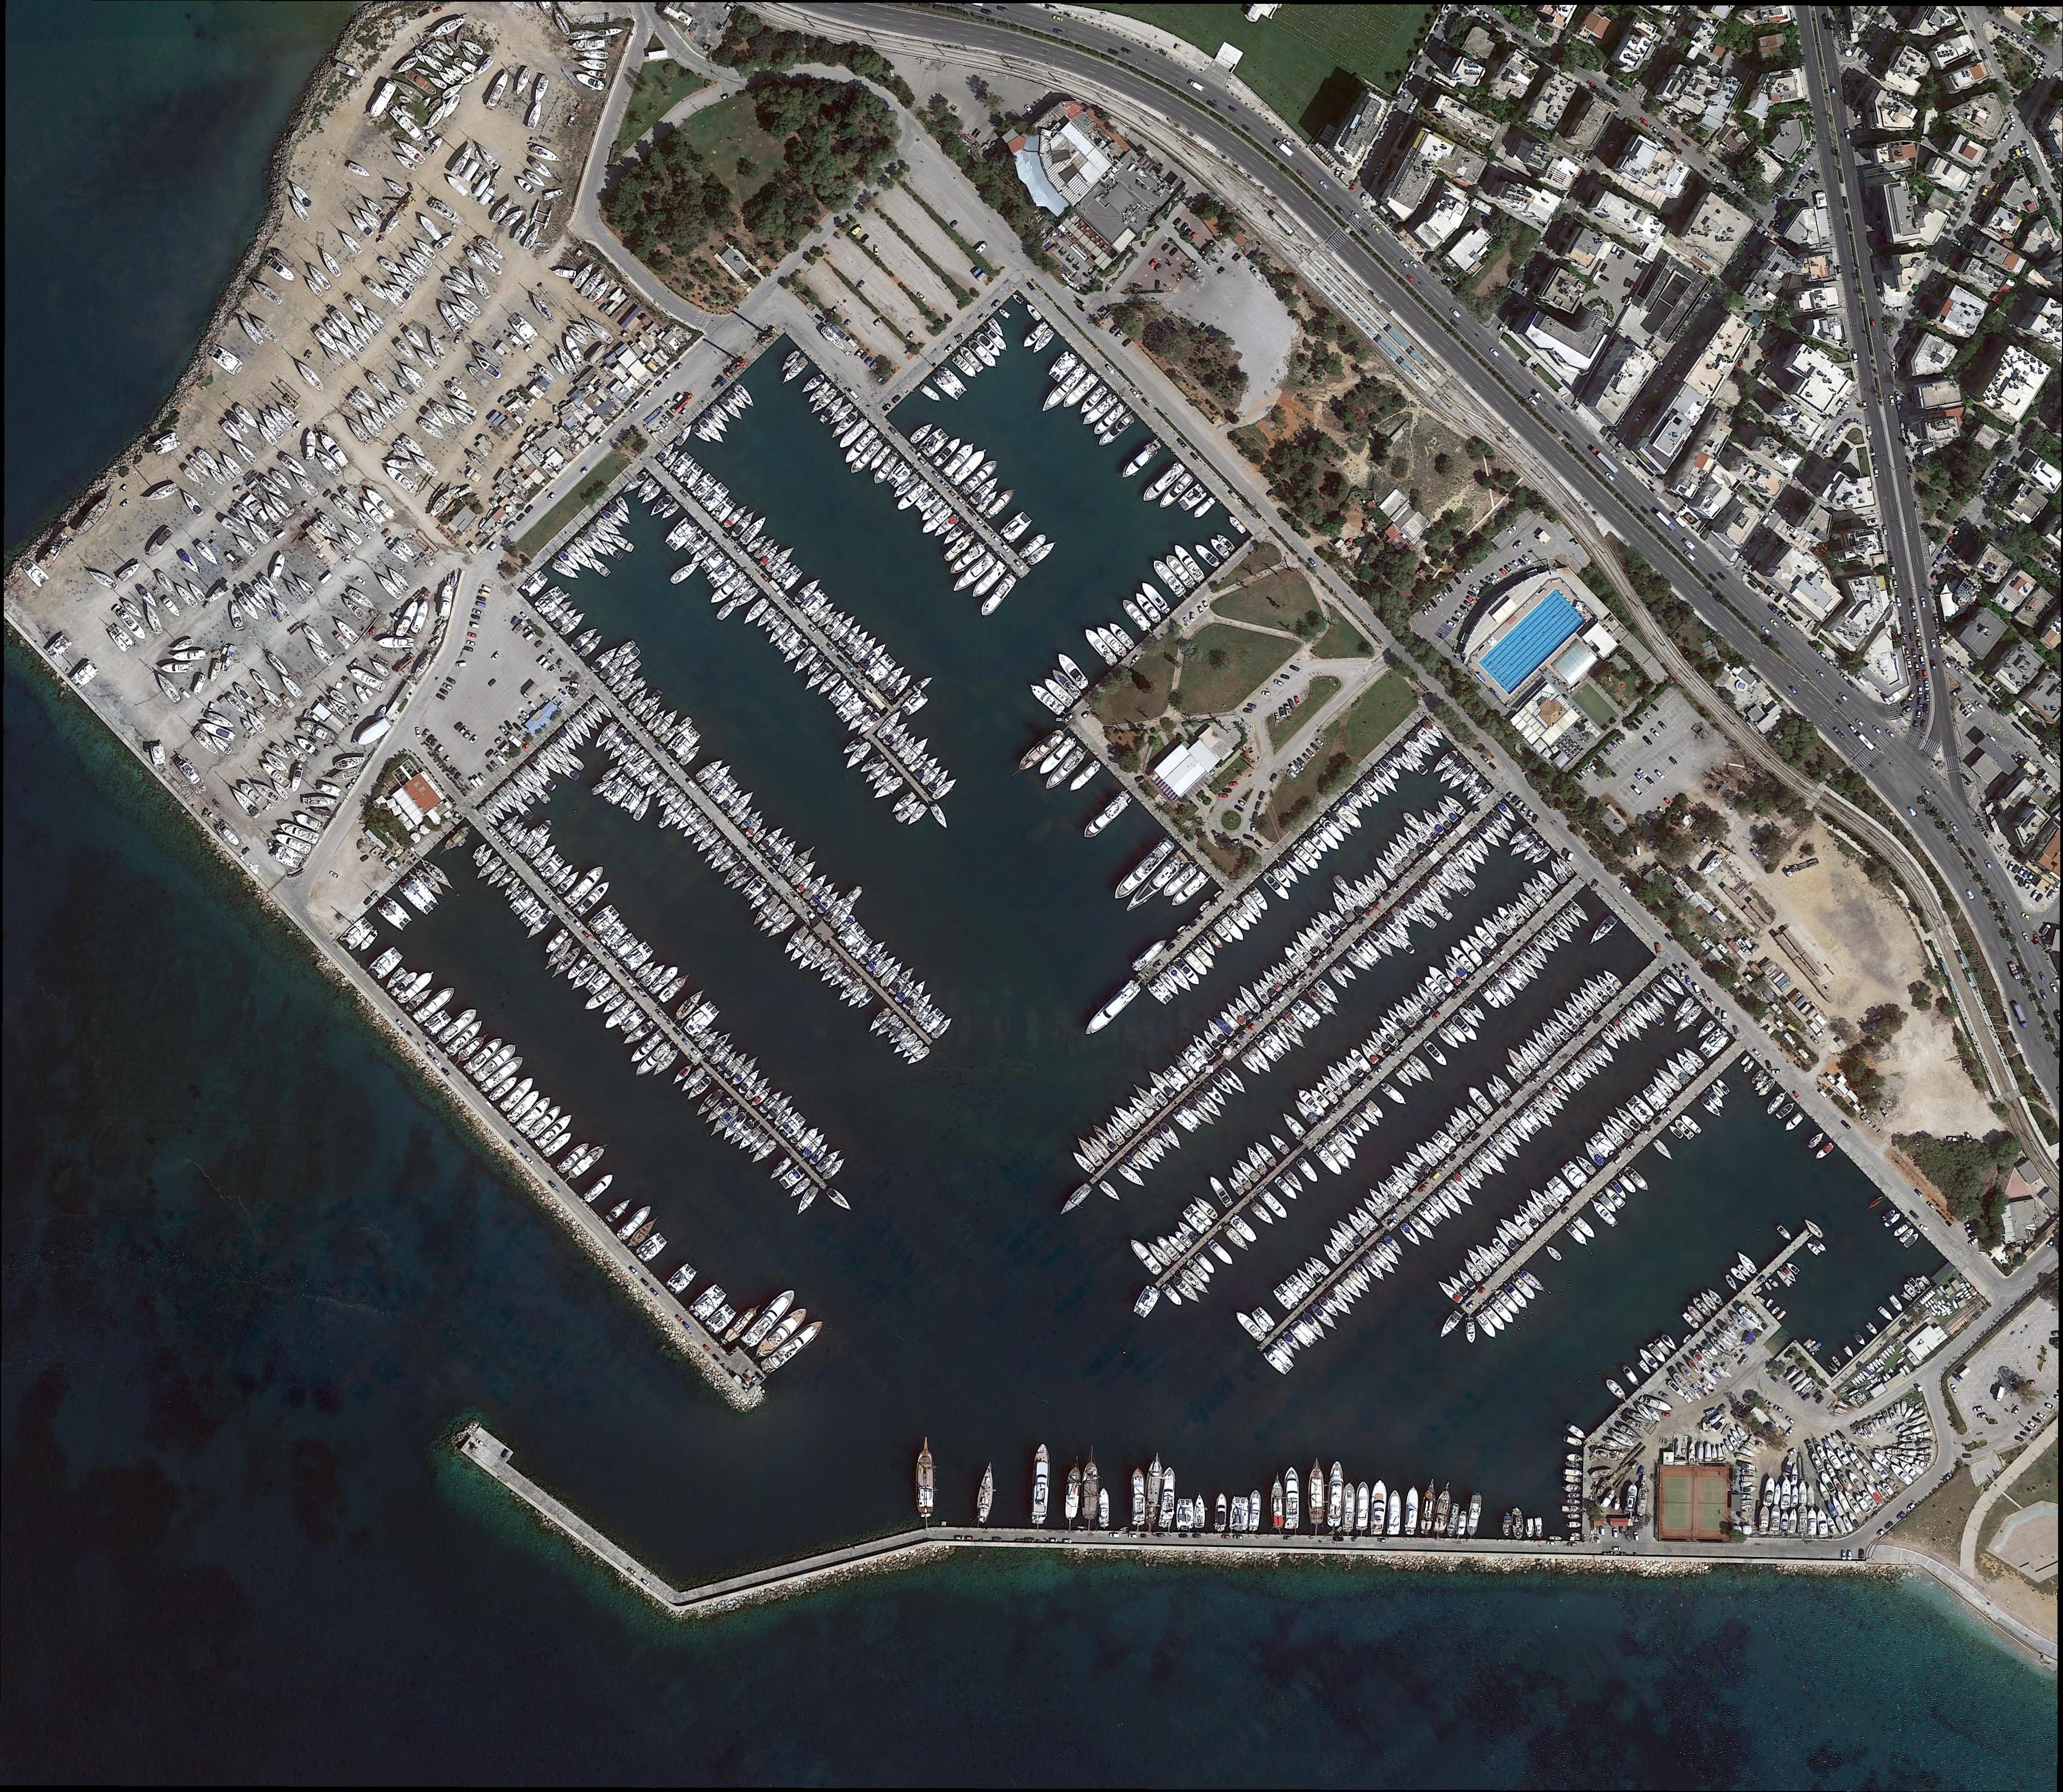harbor: (319, 934, 768, 1401), (1153, 872, 1588, 1292), (1253, 955, 1667, 1355), (1088, 790, 1503, 1188), (467, 809, 835, 1190), (596, 686, 940, 1050), (1460, 1037, 1749, 1318), (644, 458, 891, 713), (461, 1427, 689, 1608), (875, 418, 1033, 581), (930, 1525, 1586, 1557), (1137, 890, 1235, 988), (863, 728, 939, 807), (1745, 1229, 1816, 1294)
ship: (1117, 844, 1195, 921), (756, 1308, 835, 1378), (735, 1276, 805, 1355), (1107, 832, 1179, 906), (1077, 974, 1146, 1043), (751, 1299, 814, 1364), (1075, 786, 1139, 851), (1009, 723, 1070, 779), (1035, 360, 1091, 419), (716, 1292, 770, 1353), (558, 857, 612, 914), (1040, 742, 1093, 797), (430, 1000, 482, 1055), (405, 979, 461, 1030), (1114, 434, 1167, 486), (947, 548, 1002, 599), (72, 486, 123, 541), (1137, 456, 1188, 507), (395, 869, 444, 921), (470, 1037, 523, 1086), (361, 937, 410, 988), (440, 1013, 489, 1064), (386, 102, 435, 153), (684, 1276, 733, 1325), (567, 1134, 616, 1183), (391, 964, 440, 1013), (568, 874, 616, 925), (1028, 1439, 1054, 1529), (628, 1037, 677, 1085), (521, 1099, 568, 1148), (479, 1050, 530, 1095), (461, 1030, 507, 1081), (977, 569, 1021, 621), (970, 1453, 1000, 1529), (1123, 1230, 1168, 1279), (1093, 409, 1140, 455), (612, 1199, 658, 1244), (1158, 858, 1203, 904), (958, 455, 1003, 500), (1033, 735, 1079, 781), (1054, 1176, 1100, 1222), (949, 442, 993, 490), (700, 1295, 744, 1343), (575, 1165, 619, 1213), (967, 558, 1010, 606), (916, 1427, 937, 1523), (498, 1069, 542, 1115), (681, 995, 725, 1041), (1081, 1443, 1103, 1530), (363, 74, 403, 123), (37, 521, 75, 572), (535, 1109, 579, 1153), (1168, 869, 1212, 913), (1060, 370, 1102, 416), (1147, 555, 1189, 600), (660, 1257, 702, 1302), (372, 892, 418, 934), (170, 751, 212, 797), (1731, 1297, 1777, 1339), (416, 853, 460, 895), (930, 362, 972, 405), (553, 1136, 596, 1178), (1251, 1183, 1295, 1225), (335, 911, 377, 955), (705, 569, 749, 611), (946, 537, 989, 579), (1081, 625, 1121, 670), (840, 423, 881, 469), (293, 714, 342, 751), (623, 1209, 665, 1251), (625, 1027, 667, 1069), (1079, 390, 1121, 432), (939, 437, 979, 481), (1156, 470, 1196, 514), (360, 483, 400, 527), (535, 1125, 579, 1165), (289, 355, 330, 398), (1482, 967, 1523, 1011), (661, 513, 702, 556), (1054, 648, 1093, 693), (1170, 541, 1209, 586), (1061, 1453, 1084, 1529), (1128, 934, 1170, 974), (232, 309, 272, 351), (596, 1190, 639, 1230), (451, 1029, 491, 1071), (1316, 1130, 1356, 1172), (226, 783, 265, 827), (396, 981, 440, 1020), (849, 434, 888, 477), (1128, 1279, 1165, 1325), (410, 864, 451, 904), (516, 1092, 556, 1132), (1026, 677, 1067, 718), (1089, 400, 1130, 441), (579, 311, 619, 351), (207, 340, 247, 381), (939, 527, 979, 567), (540, 932, 579, 974), (549, 941, 588, 983), (981, 481, 1019, 523), (1065, 756, 1103, 799), (1307, 1137, 1346, 1179), (1584, 907, 1623, 950), (425, 481, 463, 523), (581, 981, 625, 1018), (353, 714, 396, 751), (433, 297, 470, 340), (316, 428, 353, 472), (426, 195, 470, 232), (346, 662, 391, 697), (437, 820, 477, 858), (670, 985, 709, 1025), (100, 618, 139, 658), (468, 335, 509, 374), (1216, 1218, 1256, 1257), (1175, 1262, 1216, 1301), (1167, 1269, 1207, 1308), (1496, 957, 1537, 995), (209, 814, 247, 855), (1161, 549, 1198, 591), (1137, 576, 1174, 618), (247, 276, 289, 312), (382, 463, 425, 500), (505, 307, 542, 349), (1324, 1455, 1346, 1529), (1146, 1450, 1165, 1529), (521, 907, 560, 946), (963, 335, 1002, 374), (633, 1227, 672, 1265), (1275, 1106, 1314, 1144), (112, 604, 151, 642), (237, 778, 275, 816), (507, 1085, 544, 1125), (142, 520, 179, 560), (1326, 1125, 1363, 1165), (900, 728, 937, 769), (835, 414, 872, 455), (151, 667, 186, 709), (265, 839, 309, 872), (621, 937, 658, 976), (1046, 348, 1082, 386), (1093, 621, 1130, 660), (1363, 927, 1400, 965), (342, 412, 379, 451), (1454, 932, 1491, 971), (800, 660, 837, 699), (532, 581, 570, 618), (600, 771, 637, 809), (895, 477, 933, 514), (1398, 990, 1433, 1030), (784, 839, 819, 879), (1461, 1078, 1496, 1118), (1417, 1474, 1440, 1536), (1307, 1455, 1326, 1527), (567, 960, 603, 997), (602, 999, 639, 1036), (754, 900, 791, 937), (646, 960, 682, 997), (654, 971, 691, 1007), (1039, 672, 1075, 709), (67, 655, 104, 692), (928, 432, 965, 469), (384, 965, 421, 1002), (1246, 1195, 1282, 1232), (875, 656, 912, 693), (665, 725, 702, 762), (828, 405, 865, 442), (919, 502, 956, 539), (1647, 976, 1684, 1013), (617, 1016, 656, 1051), (1181, 1095, 1219, 1130), (1189, 1088, 1228, 1123), (1119, 595, 1154, 634), (1075, 379, 1110, 418), (1130, 588, 1165, 627), (305, 635, 340, 674), (258, 758, 296, 793), (39, 627, 77, 662), (703, 556, 742, 591), (858, 635, 893, 674), (1231, 1306, 1267, 1344), (732, 1048, 765, 1088), (902, 972, 935, 1013), (1205, 1172, 1239, 1213), (870, 448, 903, 488), (272, 828, 316, 858), (916, 425, 953, 460), (968, 472, 1003, 509), (1014, 527, 1051, 562), (779, 921, 814, 958), (1303, 985, 1340, 1020), (1049, 665, 1084, 702), (302, 260, 337, 297), (19, 555, 54, 591), (1112, 1158, 1149, 1193), (414, 209, 449, 246), (396, 360, 433, 395), (586, 902, 623, 937), (1226, 1211, 1263, 1246), (1203, 1234, 1239, 1271), (1295, 1083, 1330, 1120), (833, 692, 870, 727), (737, 593, 774, 628), (1621, 1092, 1658, 1127), (393, 135, 432, 168), (1249, 1134, 1282, 1172), (1447, 941, 1481, 979), (737, 511, 770, 549), (389, 74, 428, 107), (402, 67, 440, 100), (474, 233, 512, 267), (1375, 1078, 1414, 1111), (867, 774, 907, 806), (1284, 1459, 1302, 1530), (81, 563, 123, 593), (1161, 1464, 1181, 1529), (649, 1046, 684, 1081), (700, 1095, 735, 1130), (707, 1104, 742, 1139), (765, 1088, 800, 1123), (747, 895, 782, 930), (1175, 481, 1210, 516), (1144, 1065, 1179, 1100), (428, 12, 472, 40), (140, 479, 184, 507), (1542, 913, 1577, 948), (726, 505, 761, 541), (777, 353, 812, 388), (1696, 1025, 1731, 1060), (1405, 1211, 1440, 1246), (393, 597, 421, 641), (977, 321, 1014, 355), (1017, 318, 1051, 355), (1274, 1018, 1310, 1051), (1181, 1201, 1214, 1237), (1088, 1118, 1121, 1155), (1330, 800, 1367, 834), (177, 486, 211, 523), (472, 137, 505, 174), (709, 771, 742, 807), (700, 758, 737, 792), (1502, 1041, 1535, 1078), (765, 539, 798, 576), (328, 305, 361, 342), (474, 244, 507, 281), (311, 448, 347, 481), (1023, 537, 1061, 569), (617, 781, 649, 820), (277, 820, 323, 846), (793, 1181, 821, 1223), (484, 70, 512, 112), (1402, 1480, 1423, 1536), (539, 923, 572, 958), (563, 950, 596, 985), (970, 328, 1005, 362), (947, 349, 981, 384), (691, 1086, 726, 1120), (579, 528, 614, 562), (563, 541, 598, 574), (598, 916, 632, 951), (703, 1025, 737, 1060), (535, 746, 568, 781), (1189, 1190, 1223, 1225), (1239, 1143, 1272, 1178), (1351, 934, 1384, 969), (1379, 911, 1414, 944), (1458, 835, 1491, 871), (1231, 897, 1265, 932), (1233, 981, 1267, 1016), (1279, 848, 1314, 881), (1130, 1078, 1163, 1113), (1179, 1043, 1214, 1076), (1072, 1134, 1105, 1169), (265, 402, 298, 437), (374, 570, 407, 606), (332, 614, 365, 649), (1217, 1064, 1251, 1099), (528, 291, 561, 326), (1293, 1153, 1326, 1188), (377, 964, 412, 997), (1493, 902, 1526, 937), (1405, 1050, 1438, 1085), (788, 644, 821, 679), (840, 739, 874, 774), (518, 567, 553, 600), (642, 490, 677, 523), (1309, 1302, 1344, 1336), (695, 412, 728, 448), (698, 479, 732, 514), (777, 637, 812, 670), (328, 493, 363, 527), (816, 391, 849, 426), (463, 363, 498, 397), (1419, 1036, 1453, 1071), (1442, 1178, 1477, 1211), (1477, 1146, 1512, 1179), (249, 312, 282, 348), (318, 340, 351, 376), (488, 1072, 525, 1104), (761, 911, 798, 943), (795, 939, 826, 976), (1328, 888, 1360, 925), (1479, 814, 1516, 846), (1188, 1027, 1219, 1064), (149, 428, 186, 460), (1424, 958, 1456, 995), (1589, 1195, 1621, 1232), (865, 439, 896, 476), (263, 254, 300, 286), (553, 342, 582, 381), (1370, 1476, 1389, 1536), (468, 265, 496, 305), (616, 1006, 649, 1039), (814, 1143, 847, 1176), (719, 857, 753, 890), (1372, 920, 1405, 953), (1105, 618, 1139, 651), (1260, 871, 1293, 904), (1167, 1048, 1200, 1081), (1461, 1244, 1495, 1278), (1253, 1030, 1286, 1064), (1000, 509, 1033, 542), (772, 623, 805, 656), (842, 704, 875, 737), (1423, 871, 1456, 904), (858, 934, 891, 967), (589, 642, 623, 676), (791, 572, 824, 606), (891, 469, 924, 502), (1449, 1013, 1482, 1046), (1524, 1099, 1558, 1132), (421, 1006, 456, 1037), (1144, 1236, 1175, 1271), (1405, 728, 1440, 760), (289, 567, 321, 602), (1323, 1060, 1354, 1095), (1519, 876, 1551, 911), (1340, 1051, 1372, 1086), (1516, 943, 1551, 974), (1358, 1092, 1393, 1123), (1526, 1023, 1558, 1058), (1286, 1316, 1317, 1351), (700, 407, 735, 439), (884, 456, 916, 491), (472, 353, 507, 384), (1674, 1002, 1705, 1037), (1128, 1464, 1146, 1527), (1467, 918, 1502, 950), (446, 391, 482, 421), (888, 960, 917, 997), (668, 558, 705, 588), (577, 265, 607, 302), (1300, 1308, 1330, 1344), (249, 778, 286, 807), (1433, 1480, 1453, 1536), (516, 899, 549, 930), (667, 1058, 700, 1090), (472, 853, 505, 885), (956, 342, 988, 376), (707, 842, 739, 876), (788, 932, 819, 965), (863, 1004, 895, 1037), (1428, 748, 1461, 779), (1303, 913, 1337, 944), (1407, 885, 1440, 916), (1416, 878, 1449, 909), (1507, 830, 1540, 862), (1172, 955, 1203, 988), (1181, 948, 1212, 981), (1217, 913, 1249, 946), (1324, 809, 1358, 841), (265, 490, 296, 523), (335, 226, 367, 260), (347, 209, 379, 242), (1244, 1044, 1275, 1078), (823, 1183, 856, 1215), (1265, 1127, 1296, 1160), (1279, 1164, 1310, 1197), (761, 616, 793, 649), (824, 677, 858, 709), (809, 876, 840, 909), (837, 918, 868, 951), (693, 753, 726, 785), (617, 670, 649, 704), (651, 706, 682, 739), (898, 688, 932, 720), (884, 670, 917, 702), (1435, 1185, 1467, 1218), (849, 632, 881, 665), (721, 498, 753, 532), (809, 384, 840, 418), (939, 518, 970, 551), (409, 449, 442, 481), (289, 470, 323, 502), (426, 397, 460, 428), (1558, 1157, 1589, 1190), (1603, 1109, 1637, 1141), (1612, 1100, 1644, 1134), (1270, 1279, 1302, 1313), (1549, 1002, 1582, 1034), (1638, 986, 1670, 1020), (1658, 969, 1691, 1000), (1514, 1106, 1545, 1139), (1493, 1130, 1524, 1164), (384, 563, 416, 597), (1267, 1021, 1296, 1057), (930, 772, 965, 802), (728, 785, 758, 820), (1249, 1302, 1279, 1337), (344, 583, 379, 613), (277, 451, 312, 481), (1400, 1146, 1435, 1176), (1396, 1218, 1426, 1253), (258, 407, 288, 442), (447, 144, 477, 179), (291, 809, 330, 835), (1247, 1481, 1267, 1534), (777, 1109, 809, 1141), (817, 957, 849, 988), (700, 835, 732, 867), (610, 930, 642, 962), (1435, 756, 1467, 788), (1312, 906, 1344, 937), (1312, 978, 1344, 1009), (1233, 1155, 1265, 1186), (1146, 978, 1177, 1009), (1289, 841, 1321, 872), (1310, 821, 1342, 853), (1317, 814, 1349, 846), (1372, 765, 1403, 797), (440, 170, 472, 202), (1486, 1295, 1517, 1327), (1200, 1079, 1231, 1111), (1191, 1248, 1223, 1279), (1182, 1255, 1214, 1287), (1353, 1099, 1384, 1130), (619, 467, 651, 498), (1579, 971, 1610, 1002), (1263, 1344, 1295, 1376), (1360, 1255, 1391, 1287), (716, 393, 747, 425), (605, 732, 637, 763), (1409, 976, 1440, 1007), (191, 728, 223, 760), (930, 511, 961, 542), (453, 290, 484, 321), (193, 446, 225, 477), (311, 325, 342, 356), (1661, 1053, 1693, 1085), (1270, 1467, 1286, 1530), (1388, 1160, 1419, 1192), (1542, 1011, 1574, 1043), (1438, 948, 1470, 979), (1567, 986, 1598, 1018), (1558, 1062, 1589, 1093), (1505, 1116, 1537, 1148), (1368, 1248, 1400, 1279), (1414, 1199, 1446, 1230), (223, 409, 254, 441), (682, 1076, 716, 1106), (726, 1118, 756, 1151), (758, 1085, 788, 1118), (514, 823, 544, 857), (1374, 1011, 1407, 1041), (1239, 890, 1268, 923), (1105, 1107, 1135, 1141), (1067, 1148, 1100, 1178), (286, 195, 316, 228), (1435, 1308, 1465, 1341), (1158, 1279, 1188, 1313), (1398, 1053, 1428, 1086), (696, 548, 730, 577), (1324, 1222, 1358, 1251), (844, 625, 874, 658), (875, 707, 905, 741), (354, 409, 384, 442), (416, 414, 449, 444), (396, 432, 430, 462), (1535, 1016, 1565, 1050), (1510, 953, 1544, 983), (1617, 1011, 1647, 1044), (1426, 1192, 1456, 1225), (326, 695, 360, 725), (447, 263, 481, 293), (468, 170, 498, 204), (409, 597, 433, 637), (288, 177, 316, 212), (318, 247, 346, 283), (1288, 1000, 1323, 1029), (1528, 1183, 1556, 1218), (1386, 1485, 1405, 1536), (425, 326, 451, 363), (200, 720, 239, 744), (526, 142, 565, 167), (600, 992, 632, 1021), (507, 888, 539, 918), (481, 862, 512, 892), (905, 418, 937, 448), (747, 1137, 779, 1167), (777, 1164, 809, 1193), (693, 828, 725, 858), (739, 872, 768, 904), (744, 886, 775, 916), (605, 498, 637, 528), (591, 720, 621, 751), (640, 771, 670, 802), (744, 1071, 774, 1102), (542, 741, 572, 772), (509, 767, 539, 799), (1417, 804, 1447, 835), (1444, 763, 1474, 795), (1398, 823, 1428, 855), (1281, 941, 1310, 972), (1291, 925, 1321, 957), (1370, 851, 1400, 883), (1384, 837, 1414, 869), (1153, 1232, 1182, 1264), (1451, 846, 1481, 878), (1165, 964, 1195, 995), (1188, 941, 1217, 972), (1191, 541, 1223, 570), (1112, 1100, 1142, 1132), (1389, 744, 1419, 776), (1414, 723, 1446, 753), (584, 967, 614, 999), (1161, 1064, 1193, 1093), (1170, 1104, 1202, 1134), (521, 830, 553, 860), (546, 858, 575, 890), (1314, 1078, 1344, 1109), (1533, 864, 1563, 895), (1389, 1062, 1419, 1093), (1561, 895, 1593, 925), (681, 527, 710, 558), (688, 539, 719, 569), (758, 821, 788, 853), (802, 871, 832, 902), (558, 609, 588, 641), (568, 623, 600, 653), (575, 630, 607, 660), (596, 653, 628, 683), (1447, 1100, 1477, 1132), (789, 857, 819, 888), (1365, 1183, 1395, 1215), (1342, 1208, 1372, 1239), (1324, 1288, 1356, 1318), (1374, 1239, 1405, 1269), (621, 749, 653, 779), (830, 611, 860, 642), (598, 725, 628, 756), (688, 469, 717, 500), (800, 588, 830, 620), (867, 653, 896, 685), (914, 751, 944, 783), (339, 593, 370, 623), (360, 497, 389, 528), (242, 583, 272, 614), (277, 672, 307, 704), (1563, 1218, 1593, 1250), (803, 377, 835, 407), (714, 593, 744, 625), (910, 486, 942, 516), (382, 535, 412, 567), (365, 369, 395, 400), (1696, 1092, 1726, 1123), (1498, 1213, 1528, 1244), (1544, 1172, 1574, 1204), (1589, 1129, 1619, 1160), (1640, 1083, 1672, 1113), (1654, 1062, 1684, 1093), (332, 335, 361, 367), (1521, 1032, 1551, 1064), (1433, 1025, 1465, 1055), (1537, 1085, 1568, 1115), (1623, 1004, 1654, 1034), (795, 1122, 823, 1155), (767, 1151, 795, 1185), (723, 1048, 751, 1081), (1203, 1013, 1231, 1046), (1358, 1037, 1386, 1071), (544, 597, 577, 625), (1372, 1174, 1400, 1208), (879, 957, 907, 990), (261, 749, 295, 778), (332, 56, 365, 84), (489, 193, 518, 226), (1474, 1311, 1502, 1344), (1670, 992, 1698, 1025), (1353, 1201, 1381, 1234), (235, 591, 263, 625), (510, 61, 535, 98), (572, 70, 609, 95), (530, 70, 554, 107), (677, 1067, 707, 1097), (716, 849, 746, 879), (835, 976, 865, 1006), (688, 820, 717, 849), (928, 1013, 958, 1043), (572, 534, 602, 563), (1331, 957, 1361, 986), (1291, 1097, 1321, 1127), (1395, 897, 1424, 927), (1430, 865, 1460, 895), (1467, 828, 1496, 858), (1224, 904, 1254, 934), (1189, 493, 1219, 523), (1267, 864, 1296, 893), (1274, 857, 1303, 886), (1126, 1090, 1156, 1120), (1402, 749, 1431, 779), (1479, 1302, 1509, 1332), (530, 841, 560, 871), (1556, 902, 1586, 932), (814, 670, 844, 700), (765, 830, 795, 860), (1575, 981, 1605, 1011), (653, 785, 682, 814), (710, 495, 740, 525), (775, 563, 805, 593), (835, 621, 865, 651), (205, 577, 235, 607), (826, 398, 856, 428), (379, 283, 409, 312), (393, 372, 423, 402), (414, 346, 444, 376), (193, 539, 223, 569), (1570, 1213, 1600, 1243), (1623, 1164, 1653, 1193), (1596, 1118, 1626, 1148), (1600, 1373, 1630, 1402), (1472, 1239, 1502, 1269), (1333, 1216, 1363, 1246), (1410, 1139, 1440, 1169), (1479, 913, 1509, 943), (1456, 1004, 1486, 1034), (1531, 1092, 1561, 1122), (1330, 1279, 1360, 1309), (498, 204, 528, 233), (361, 195, 391, 225), (802, 1130, 830, 1162), (354, 925, 382, 957), (1030, 326, 1058, 358), (719, 1113, 747, 1144), (554, 548, 586, 576), (874, 1011, 902, 1043), (518, 762, 546, 793), (1158, 1120, 1186, 1151), (1279, 1009, 1310, 1037), (1391, 828, 1419, 860), (1488, 807, 1519, 835), (1230, 992, 1258, 1023), (1474, 823, 1505, 851), (860, 760, 891, 788), (886, 790, 917, 818), (893, 799, 924, 827), (882, 718, 910, 749), (830, 899, 858, 930), (772, 835, 800, 867), (796, 369, 828, 397), (447, 300, 479, 328), (568, 260, 596, 291), (586, 276, 614, 307), (256, 474, 288, 502), (1495, 1287, 1523, 1318), (1493, 1222, 1521, 1253), (1358, 1192, 1386, 1223), (1486, 1067, 1514, 1099), (1514, 1039, 1542, 1071), (246, 516, 274, 548), (282, 577, 311, 609), (526, 154, 558, 183), (584, 521, 617, 548), (549, 558, 582, 584), (895, 728, 921, 762), (218, 514, 251, 541), (381, 176, 414, 202), (1467, 1490, 1484, 1539), (1212, 1490, 1231, 1534), (267, 551, 289, 588), (142, 600, 165, 637), (744, 1129, 774, 1157), (824, 964, 854, 992), (844, 983, 872, 1013), (633, 762, 663, 790), (661, 792, 689, 821), (668, 799, 696, 828), (737, 1065, 765, 1095), (889, 1032, 919, 1060), (502, 776, 530, 806), (1324, 964, 1353, 993), (1286, 935, 1316, 964), (1344, 881, 1372, 911), (1377, 844, 1405, 874), (1344, 948, 1374, 976), (1363, 771, 1391, 800), (1096, 1178, 1126, 1206), (639, 960, 668, 988), (407, 244, 437, 272), (1230, 1164, 1258, 1193), (847, 932, 875, 962), (625, 683, 653, 713), (1456, 1164, 1484, 1193), (688, 419, 716, 449), (730, 379, 758, 409), (300, 621, 328, 651), (917, 497, 947, 525), (133, 581, 161, 611), (421, 102, 449, 132), (389, 270, 419, 298), (400, 251, 430, 279), (232, 402, 261, 430), (218, 419, 247, 448), (361, 276, 391, 304), (346, 293, 374, 323), (819, 325, 849, 353), (349, 321, 377, 351), (342, 328, 370, 358), (1519, 1267, 1549, 1295), (1509, 1208, 1537, 1237), (1514, 1199, 1542, 1229), (1274, 1176, 1302, 1206), (1560, 997, 1589, 1025), (1544, 1078, 1574, 1106), (1589, 1036, 1617, 1065), (172, 581, 200, 611), (258, 498, 286, 528), (593, 514, 625, 541), (563, 720, 589, 751), (909, 988, 935, 1020), (556, 865, 582, 897), (1545, 857, 1572, 888), (823, 606, 849, 637), (153, 567, 179, 599), (446, 404, 477, 430), (510, 214, 537, 246), (1765, 1086, 1791, 1118), (391, 149, 423, 176), (928, 800, 953, 834), (440, 274, 474, 298), (551, 5, 575, 39), (439, 581, 458, 623), (225, 599, 247, 634), (1640, 1394, 1675, 1416), (821, 1155, 849, 1183), (682, 813, 710, 841), (675, 806, 703, 834), (528, 753, 556, 781), (1433, 795, 1461, 823), (1440, 790, 1468, 818), (1302, 923, 1330, 951), (1351, 876, 1379, 904), (1519, 837, 1547, 865), (514, 174, 542, 202), (753, 604, 781, 632), (854, 711, 882, 739), (553, 604, 581, 632), (1346, 1267, 1374, 1295), (919, 1006, 947, 1034), (723, 386, 751, 414), (667, 451, 695, 479), (777, 346, 805, 374), (395, 260, 423, 288), (1510, 1274, 1538, 1302), (1672, 1048, 1700, 1076), (1572, 1151, 1600, 1179), (1419, 1134, 1447, 1162), (1463, 997, 1491, 1025), (1346, 1107, 1374, 1136), (1335, 1122, 1363, 1150), (1591, 971, 1619, 999), (1630, 997, 1658, 1025), (1316, 1294, 1344, 1322), (1381, 1232, 1409, 1260), (1484, 1137, 1512, 1165), (265, 651, 293, 679), (116, 558, 144, 586), (232, 439, 260, 467), (356, 205, 384, 233), (1726, 1308, 1754, 1336), (807, 946, 833, 976), (588, 693, 614, 723), (577, 706, 603, 735), (570, 713, 596, 742), (488, 792, 518, 818), (1346, 1043, 1372, 1072), (1391, 999, 1417, 1029), (1400, 892, 1430, 918), (1505, 823, 1535, 849), (1247, 883, 1274, 913), (1419, 716, 1449, 742), (1398, 735, 1428, 762), (1530, 930, 1560, 957), (868, 767, 898, 793), (733, 584, 763, 611), (928, 765, 954, 795), (893, 976, 919, 1006), (753, 534, 779, 563), (1421, 971, 1447, 1000), (225, 690, 251, 720), (363, 304, 389, 333), (442, 377, 472, 404), (607, 530, 637, 556), (393, 337, 419, 367), (1635, 1343, 1661, 1373), (1617, 1362, 1644, 1392), (1524, 939, 1554, 965), (1477, 983, 1503, 1013), (1435, 1278, 1465, 1304), (332, 753, 372, 772), (598, 507, 630, 532), (458, 35, 489, 60), (412, 649, 437, 681), (561, 333, 586, 365), (1523, 1193, 1547, 1225), (475, 179, 500, 211), (1193, 1485, 1210, 1529), (1589, 1444, 1623, 1467), (1230, 1494, 1249, 1532), (491, 867, 519, 893), (975, 488, 1003, 514), (730, 865, 756, 893), (616, 742, 642, 771), (1128, 1148, 1156, 1174), (1324, 904, 1351, 932), (1358, 869, 1384, 897), (1174, 1216, 1202, 1243), (1444, 851, 1470, 879), (1223, 511, 1249, 539), (1086, 1134, 1112, 1162), (1102, 1120, 1128, 1148), (1296, 835, 1324, 862), (1358, 778, 1384, 806), (872, 951, 898, 979), (584, 342, 612, 369), (1137, 1139, 1163, 1167), (539, 853, 567, 879), (1342, 1481, 1356, 1534), (1356, 1478, 1370, 1530), (1510, 895, 1537, 923), (867, 946, 893, 974), (761, 611, 788, 639), (909, 670, 937, 697), (632, 476, 660, 502), (816, 888, 842, 916), (823, 895, 849, 923), (719, 785, 746, 813), (1337, 1276, 1365, 1302), (1284, 1271, 1310, 1299), (707, 400, 735, 426), (532, 767, 560, 793), (207, 732, 235, 758), (354, 507, 381, 535), (256, 572, 282, 600), (1430, 897, 1456, 925), (1400, 807, 1426, 835), (533, 360, 561, 386), (386, 279, 414, 305), (432, 230, 460, 256), (421, 405, 449, 432), (586, 555, 614, 581), (598, 537, 626, 563), (267, 467, 295, 493), (177, 549, 203, 577), (353, 386, 381, 412), (323, 316, 349, 344), (1602, 1183, 1628, 1211), (1735, 1250, 1761, 1278), (1503, 1281, 1530, 1309), (1649, 1137, 1677, 1164), (1581, 1139, 1607, 1167), (1649, 1072, 1675, 1100), (1305, 1251, 1333, 1278), (1502, 1058, 1528, 1086), (1465, 930, 1493, 957), (1488, 909, 1514, 937), (1512, 885, 1538, 913), (1528, 872, 1554, 900), (1340, 1115, 1368, 1141), (1442, 1020, 1470, 1046), (1568, 1057, 1596, 1083), (1575, 1051, 1603, 1078), (1582, 1044, 1610, 1071), (1444, 1271, 1472, 1297), (1600, 964, 1626, 992), (1498, 1123, 1526, 1150), (1470, 1151, 1496, 1179), (230, 681, 258, 707), (295, 734, 323, 760), (268, 595, 295, 623), (232, 532, 260, 558), (186, 455, 214, 481), (179, 463, 207, 490), (219, 451, 246, 479), (340, 523, 368, 549), (277, 402, 305, 428), (903, 1044, 933, 1069), (556, 725, 581, 755), (1249, 979, 1274, 1009), (1330, 871, 1354, 900), (358, 312, 382, 342), (1607, 1427, 1637, 1452), (1460, 1253, 1484, 1283), (391, 53, 421, 77), (302, 274, 326, 304), (1840, 1487, 1865, 1516), (1842, 1441, 1867, 1471), (440, 91, 463, 123), (632, 793, 654, 825), (521, 223, 544, 254), (326, 765, 367, 783), (203, 709, 237, 730), (917, 379, 944, 405), (788, 1176, 814, 1202), (772, 1104, 798, 1130), (632, 957, 658, 983), (475, 804, 502, 830), (582, 702, 609, 728), (1149, 1127, 1175, 1153), (1414, 816, 1440, 842), (1365, 1025, 1391, 1051), (1388, 904, 1414, 930), (1438, 858, 1465, 885), (1212, 1013, 1239, 1039), (1223, 1000, 1249, 1027), (903, 802, 930, 828), (739, 806, 765, 832), (639, 697, 665, 723), (744, 530, 770, 556), (260, 686, 286, 713), (414, 237, 440, 263), (402, 325, 428, 351), (1672, 1116, 1698, 1143), (1679, 1111, 1705, 1137), (1689, 1294, 1716, 1320), (1802, 1216, 1828, 1243), (1681, 1043, 1707, 1069), (1614, 1171, 1640, 1197), (1553, 911, 1579, 937), (523, 165, 549, 191), (842, 879, 867, 907), (709, 1041, 737, 1065), (1158, 971, 1182, 999), (1196, 932, 1221, 960), (1351, 783, 1375, 811), (728, 577, 756, 602), (646, 704, 670, 732), (1463, 1097, 1488, 1125), (679, 462, 703, 490), (532, 816, 556, 844), (160, 593, 184, 621), (249, 667, 274, 695), (1489, 1232, 1514, 1260), (389, 441, 418, 465), (565, 325, 593, 349), (1398, 1157, 1426, 1181), (272, 246, 300, 270), (474, 53, 498, 81), (856, 753, 886, 776), (344, 158, 374, 181), (570, 319, 600, 342), (1616, 1420, 1645, 1443), (170, 648, 212, 663), (547, 262, 579, 283), (807, 1141, 832, 1167), (474, 844, 498, 871), (751, 1083, 775, 1109), (696, 1027, 723, 1051), (482, 799, 509, 823), (900, 1037, 926, 1062), (1319, 1071, 1344, 1097), (1528, 844, 1553, 871), (1495, 800, 1521, 825), (1260, 965, 1284, 992), (1203, 927, 1228, 953), (1146, 1081, 1170, 1107), (1217, 1006, 1242, 1032), (1377, 756, 1402, 783), (1210, 920, 1235, 946), (1144, 1136, 1168, 1162), (1239, 1051, 1263, 1078), (377, 398, 402, 425), (803, 653, 828, 679), (839, 734, 865, 758), (640, 483, 667, 507), (605, 663, 630, 690), (610, 670, 637, 695), (660, 721, 684, 748), (612, 637, 639, 662), (617, 646, 644, 670), (1431, 1130, 1458, 1155), (1482, 1078, 1507, 1104), (677, 744, 703, 769), (1386, 1174, 1410, 1201), (1277, 1330, 1303, 1355), (1300, 1258, 1324, 1285), (1317, 1239, 1342, 1265), (672, 421, 696, 448), (758, 542, 782, 569), (810, 599, 837, 623), (907, 748, 932, 774), (512, 797, 537, 823), (119, 597, 146, 621), (309, 518, 335, 542), (251, 579, 275, 606), (244, 711, 268, 737), (1393, 930, 1417, 957), (1414, 909, 1440, 934), (619, 656, 646, 681), (423, 133, 447, 160), (367, 407, 391, 434), (233, 500, 260, 525), (1444, 1501, 1461, 1538), (1693, 1018, 1719, 1043), (1782, 1109, 1807, 1136), (1538, 925, 1565, 950), (1293, 1264, 1317, 1290), (1453, 1264, 1477, 1290), (284, 741, 311, 765), (328, 537, 354, 562), (1717, 1320, 1744, 1344), (1889, 1462, 1916, 1487), (525, 100, 544, 133), (221, 642, 240, 676), (496, 783, 519, 811), (1368, 865, 1391, 893), (374, 635, 419, 649), (1447, 1111, 1470, 1139), (600, 762, 628, 785), (377, 256, 405, 279), (1610, 1016, 1633, 1044), (451, 54, 481, 75), (302, 425, 318, 463), (503, 818, 528, 842), (1342, 892, 1367, 916), (1165, 1230, 1189, 1255), (1307, 1085, 1331, 1109), (1384, 1007, 1409, 1032), (1407, 990, 1431, 1014), (1124, 1102, 1149, 1127), (1338, 795, 1363, 820), (775, 851, 800, 876), (632, 693, 656, 718), (1451, 1171, 1475, 1195), (1326, 1236, 1351, 1260), (770, 558, 795, 583), (1684, 1302, 1709, 1327), (1595, 1190, 1619, 1215), (1703, 1086, 1728, 1111), (393, 535, 418, 560), (1707, 1332, 1731, 1357), (1668, 1369, 1693, 1394), (888, 1025, 914, 1048), (549, 732, 572, 758), (1470, 783, 1493, 809), (1256, 974, 1279, 1000), (1212, 532, 1239, 555), (889, 728, 912, 755), (733, 800, 756, 827), (561, 749, 588, 772), (516, 783, 539, 809), (316, 511, 342, 534), (1702, 853, 1724, 879), (1772, 1099, 1798, 1122), (1698, 1288, 1721, 1315), (1596, 1487, 1619, 1513), (1353, 1260, 1375, 1287), (421, 51, 447, 74), (256, 421, 279, 448), (1712, 1327, 1738, 1350), (1098, 1487, 1112, 1529), (147, 741, 168, 769), (568, 39, 610, 53), (1863, 1478, 1884, 1506), (161, 660, 198, 676), (1510, 1504, 1526, 1541), (1175, 1499, 1195, 1529), (539, 186, 568, 205), (1621, 1483, 1640, 1513), (788, 1123, 810, 1148), (505, 881, 530, 904), (496, 813, 521, 835), (1121, 1153, 1146, 1176), (1267, 962, 1289, 986), (1172, 1225, 1195, 1250), (1224, 1174, 1247, 1199), (1209, 535, 1231, 560), (1200, 1027, 1223, 1051), (1344, 788, 1367, 813), (1023, 302, 1046, 326), (658, 502, 682, 525), (795, 871, 817, 895), (674, 713, 696, 737), (1440, 1118, 1463, 1143), (654, 441, 679, 463), (921, 763, 944, 788), (267, 741, 291, 763), (502, 874, 525, 899), (558, 760, 582, 783), (530, 783, 553, 807), (1456, 869, 1479, 893), (1542, 1241, 1565, 1265), (384, 395, 407, 419), (465, 246, 488, 270), (1803, 1129, 1828, 1151), (463, 448, 488, 470), (1633, 1399, 1656, 1423), (1651, 1336, 1675, 1358), (1503, 899, 1526, 923), (1551, 1072, 1575, 1095), (1598, 1029, 1621, 1053), (1275, 1337, 1298, 1362), (1465, 1158, 1488, 1183), (268, 778, 291, 802), (186, 579, 209, 604), (691, 1023, 717, 1044), (837, 911, 858, 937), (289, 760, 305, 795), (337, 486, 363, 507), (986, 314, 1007, 340), (547, 351, 568, 377), (1563, 1420, 1589, 1441), (432, 37, 458, 58), (439, 81, 465, 102), (1465, 776, 1484, 804), (588, 778, 616, 797), (1623, 1415, 1651, 1434), (316, 781, 344, 800), (468, 839, 491, 862), (817, 951, 840, 974), (509, 825, 532, 848), (1363, 1036, 1386, 1058), (717, 1048, 740, 1071), (1307, 832, 1330, 855), (751, 821, 774, 844), (661, 446, 684, 469), (1449, 876, 1472, 899), (656, 809, 679, 832), (389, 390, 412, 412), (1440, 964, 1463, 986), (1791, 1374, 1814, 1397), (1774, 1220, 1796, 1243), (1891, 1218, 1914, 1241), (1609, 1178, 1631, 1201), (1814, 1139, 1837, 1162), (1645, 1341, 1668, 1364), (1658, 1329, 1681, 1351), (1484, 1239, 1507, 1262), (1868, 1459, 1891, 1481), (1663, 1376, 1686, 1399), (856, 990, 877, 1014), (1458, 772, 1479, 797), (1274, 957, 1295, 981), (239, 716, 260, 741), (1705, 1285, 1726, 1309), (1556, 855, 1577, 879), (368, 658, 393, 679), (425, 74, 451, 93), (1837, 1467, 1856, 1494), (1454, 1506, 1470, 1538), (1761, 1476, 1777, 1508), (1635, 1485, 1649, 1520), (884, 1020, 907, 1041), (1375, 1023, 1398, 1044), (1384, 751, 1405, 774), (746, 816, 767, 839), (653, 779, 675, 800), (1728, 1264, 1751, 1285), (400, 104, 421, 126), (1681, 1309, 1702, 1332), (1542, 1186, 1563, 1209), (1756, 1078, 1777, 1100), (216, 462, 237, 484), (1860, 1488, 1881, 1511), (1702, 1337, 1723, 1360), (326, 688, 351, 707), (382, 212, 402, 237), (353, 683, 372, 707), (1824, 1446, 1844, 1471), (1852, 1441, 1872, 1466), (1807, 1450, 1826, 1474), (1819, 1473, 1838, 1497), (1502, 1508, 1516, 1541), (170, 637, 196, 655), (839, 971, 860, 992), (817, 607, 839, 628), (460, 44, 481, 65), (437, 67, 458, 88), (1886, 1292, 1907, 1313), (1775, 1269, 1796, 1290), (1635, 1358, 1656, 1380), (207, 467, 228, 488), (207, 658, 223, 686), (444, 63, 465, 84), (1684, 1355, 1705, 1376), (1900, 1460, 1921, 1481), (1781, 1265, 1802, 1287), (614, 493, 633, 516), (646, 686, 665, 709), (1723, 1271, 1742, 1294), (337, 534, 360, 553), (1689, 1350, 1712, 1369), (917, 1000, 935, 1025), (381, 458, 416, 470), (575, 60, 610, 72), (565, 28, 600, 40), (1837, 1490, 1854, 1515), (302, 797, 342, 807), (595, 25, 625, 39), (584, 67, 610, 82), (1433, 807, 1453, 828), (1282, 955, 1302, 976), (1603, 1021, 1623, 1043), (1905, 1274, 1924, 1295), (1700, 1367, 1719, 1388), (1875, 1304, 1896, 1323), (423, 97, 442, 118), (1749, 1065, 1768, 1086), (1854, 1494, 1874, 1515), (1833, 1446, 1852, 1467), (1696, 1343, 1716, 1364), (1872, 1450, 1893, 1469), (1758, 1506, 1772, 1534), (1768, 1506, 1782, 1534), (1561, 1432, 1586, 1448), (191, 672, 207, 697), (577, 49, 614, 60), (1414, 827, 1433, 846), (1712, 1362, 1731, 1381), (1789, 1369, 1809, 1388), (1782, 1364, 1802, 1383), (1735, 1260, 1754, 1279), (346, 393, 365, 412), (1589, 1467, 1616, 1481), (1781, 1476, 1791, 1511), (1847, 1467, 1865, 1488), (1860, 1466, 1877, 1487), (1749, 1436, 1770, 1453), (1677, 1364, 1698, 1381), (1882, 1213, 1903, 1230), (1831, 1495, 1847, 1518), (1465, 1316, 1477, 1344), (1796, 1506, 1809, 1534), (430, 46, 449, 63), (1851, 1329, 1868, 1348), (1667, 1122, 1684, 1141), (1710, 1081, 1728, 1100), (1752, 1074, 1770, 1093), (1879, 1206, 1898, 1223), (1898, 1225, 1916, 1244), (1903, 1230, 1921, 1250), (1902, 1279, 1919, 1299), (1744, 1441, 1765, 1457), (1835, 1516, 1851, 1538), (1814, 1441, 1830, 1462), (1824, 1515, 1840, 1536), (1816, 1481, 1831, 1502), (1605, 1437, 1628, 1452), (1817, 1508, 1828, 1538), (1010, 290, 1028, 307), (1698, 1374, 1716, 1392), (1863, 1320, 1881, 1337), (1805, 1241, 1823, 1258), (1784, 1260, 1802, 1278), (1714, 1078, 1731, 1095), (1867, 1195, 1884, 1213), (1740, 1058, 1756, 1078), (1840, 1515, 1856, 1534), (1560, 1459, 1584, 1471), (1798, 1480, 1809, 1508), (1563, 1452, 1586, 1464), (1533, 1515, 1545, 1538), (1735, 1452, 1758, 1464), (1910, 1422, 1933, 1434), (1907, 1415, 1930, 1427), (996, 305, 1014, 321), (1712, 1415, 1728, 1432), (1840, 1343, 1856, 1360), (444, 35, 460, 53), (1649, 1408, 1665, 1425), (1845, 1511, 1861, 1529), (1875, 1483, 1891, 1501), (1881, 1480, 1896, 1497), (1812, 1237, 1830, 1253), (1733, 1423, 1749, 1441), (1826, 1501, 1840, 1520), (1524, 1515, 1535, 1539), (1788, 1509, 1798, 1534), (1910, 1460, 1926, 1476), (1249, 263, 1263, 281), (1809, 1508, 1817, 1536), (1823, 1460, 1837, 1478), (1730, 1427, 1744, 1444), (1861, 1423, 1875, 1441), (1561, 1474, 1584, 1485), (1772, 1483, 1782, 1506), (1781, 1511, 1791, 1534), (1782, 1459, 1795, 1478), (1914, 1276, 1928, 1292), (1561, 1504, 1582, 1515), (414, 67, 435, 77), (1563, 1467, 1584, 1478), (1737, 1053, 1752, 1067), (1831, 1476, 1845, 1492), (1789, 1464, 1800, 1485), (1896, 1453, 1917, 1464), (435, 621, 447, 639), (375, 704, 388, 721), (1789, 1485, 1798, 1509), (1807, 1483, 1816, 1508), (1740, 1446, 1758, 1459), (1884, 1453, 1902, 1466), (1909, 1408, 1926, 1420), (1688, 1441, 1696, 1464), (1826, 1360, 1840, 1374), (1919, 1272, 1933, 1287), (1900, 1288, 1914, 1302), (1767, 1276, 1781, 1290), (458, 486, 474, 498), (1728, 1434, 1740, 1450), (1903, 1404, 1916, 1420), (1561, 1485, 1582, 1494), (1914, 1459, 1931, 1469), (1809, 1341, 1823, 1353), (1710, 1411, 1723, 1425), (1198, 899, 1210, 913), (1830, 1355, 1842, 1369), (1775, 1309, 1789, 1322), (1754, 1294, 1768, 1306), (1831, 1432, 1844, 1446), (1858, 1429, 1870, 1443), (1867, 1422, 1879, 1436), (1696, 1441, 1705, 1460), (1898, 1441, 1917, 1450), (1724, 1439, 1735, 1455), (1872, 1416, 1882, 1432), (1917, 1429, 1933, 1439), (1882, 1411, 1893, 1427), (1565, 1520, 1582, 1529), (1565, 1513, 1582, 1522), (456, 28, 465, 46), (1565, 1492, 1582, 1501), (1740, 1462, 1758, 1471), (1703, 1443, 1712, 1460), (1886, 1448, 1903, 1457), (1710, 1369, 1723, 1381), (1826, 1436, 1838, 1448), (1770, 1304, 1782, 1316), (1765, 1297, 1775, 1311), (421, 97, 432, 111), (1898, 1434, 1919, 1441), (1877, 1415, 1888, 1429), (1888, 1408, 1898, 1422), (1547, 1534, 1563, 1543), (1682, 1394, 1693, 1406), (1703, 1408, 1716, 1418), (1763, 1281, 1774, 1294), (432, 635, 442, 648), (1854, 1394, 1863, 1408), (461, 77, 475, 86), (1565, 1499, 1582, 1506), (1721, 1444, 1730, 1459), (1916, 1455, 1933, 1462), (1893, 1402, 1902, 1416), (1805, 1339, 1816, 1350), (1212, 888, 1223, 899), (1898, 1422, 1909, 1432), (1740, 1469, 1756, 1476), (1742, 1487, 1758, 1494), (1717, 1446, 1724, 1462), (1903, 1450, 1919, 1457), (1919, 1448, 1935, 1455), (398, 97, 410, 105), (1614, 1497, 1621, 1511), (1879, 1373, 1888, 1383), (1752, 1287, 1763, 1295), (1682, 1334, 1691, 1344), (1177, 923, 1186, 934), (451, 572, 458, 584), (1742, 1481, 1754, 1488), (1742, 1476, 1758, 1481), (1898, 1346, 1907, 1355), (1875, 1366, 1884, 1374), (1867, 1373, 1875, 1381), (1693, 1392, 1702, 1401), (1852, 1376, 1861, 1385), (1902, 1364, 1910, 1373), (1935, 1287, 1944, 1295), (458, 839, 467, 848), (1900, 1367, 1907, 1378), (1902, 1429, 1912, 1436), (1712, 1446, 1717, 1460), (1902, 1401, 1907, 1415), (1742, 1494, 1754, 1499), (1742, 1501, 1754, 1506), (1742, 1506, 1754, 1511), (1868, 1364, 1875, 1373), (1874, 1358, 1882, 1366), (1886, 1348, 1895, 1355), (1898, 1355, 1905, 1364), (1865, 1383, 1874, 1390), (1888, 1367, 1895, 1376), (1865, 1367, 1874, 1374), (1689, 1390, 1696, 1399), (1956, 1290, 1965, 1297), (1938, 1285, 1945, 1294), (1803, 1339, 1812, 1346), (1861, 1394, 1867, 1404), (1702, 1422, 1707, 1432), (1952, 1299, 1958, 1309), (1877, 1358, 1884, 1366), (1877, 1353, 1884, 1360), (1881, 1353, 1888, 1360), (1884, 1350, 1891, 1357), (1884, 1373, 1891, 1380), (1872, 1362, 1879, 1369), (1867, 1366, 1874, 1373), (1702, 1387, 1709, 1394), (1851, 1380, 1858, 1387), (1861, 1371, 1868, 1378), (1923, 1316, 1930, 1323), (1916, 1401, 1923, 1408), (1858, 1392, 1863, 1401), (1707, 1423, 1712, 1432), (1858, 1374, 1863, 1383), (1860, 1373, 1865, 1381), (537, 242, 546, 247), (1889, 1346, 1895, 1353), (1961, 1285, 1967, 1292), (1963, 1292, 1970, 1297), (1968, 1287, 1975, 1292), (1965, 1283, 1972, 1288), (1923, 1295, 1928, 1302), (1930, 1290, 1937, 1295), (1924, 1302, 1930, 1308), (1919, 1301, 1924, 1306), (1945, 1306, 1951, 1311), (1945, 1294, 1951, 1299), (1959, 1281, 1965, 1287), (1963, 1288, 1968, 1294), (1972, 1290, 1977, 1295), (1970, 1288, 1975, 1294), (1930, 1299, 1935, 1304), (1931, 1309, 1937, 1315), (1940, 1297, 1945, 1302), (1937, 1304, 1942, 1309), (1967, 1295, 1974, 1299), (1923, 1297, 1926, 1304), (1940, 1313, 1947, 1316), (1928, 1301, 1931, 1308), (1947, 1311, 1952, 1315), (1945, 1308, 1951, 1311), (1942, 1304, 1945, 1309), (1926, 1294, 1930, 1299), (1928, 1294, 1931, 1299), (1933, 1304, 1937, 1309), (1931, 1313, 1937, 1316), (1937, 1311, 1940, 1316), (1937, 1301, 1942, 1304), (1940, 1309, 1945, 1313), (1931, 1304, 1933, 1311), (1940, 1308, 1944, 1311)
